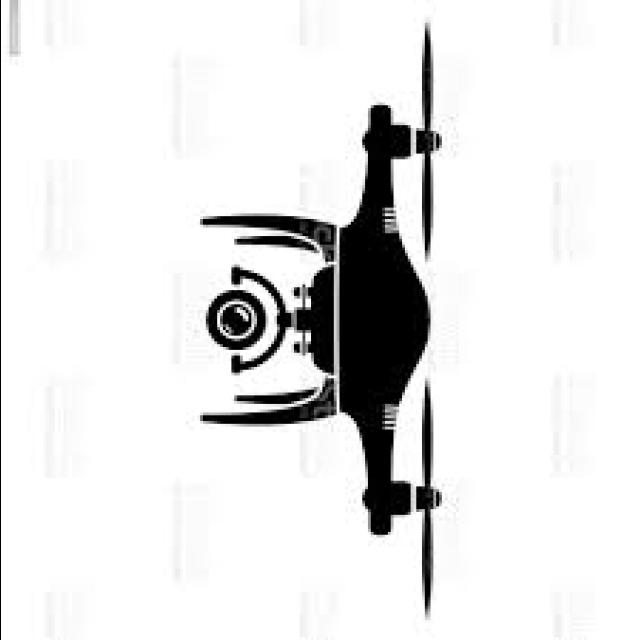drone: (125, 12, 495, 620)
